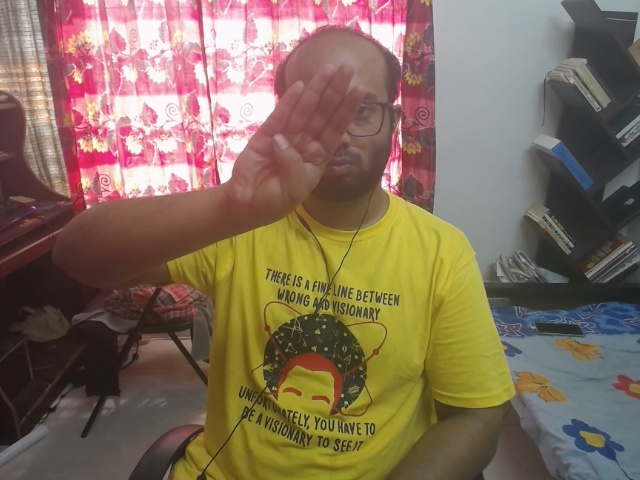counting: (235, 47, 367, 235)
